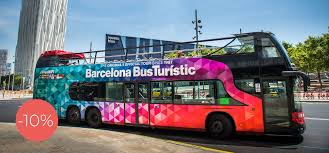bus: (33, 30, 310, 141)
